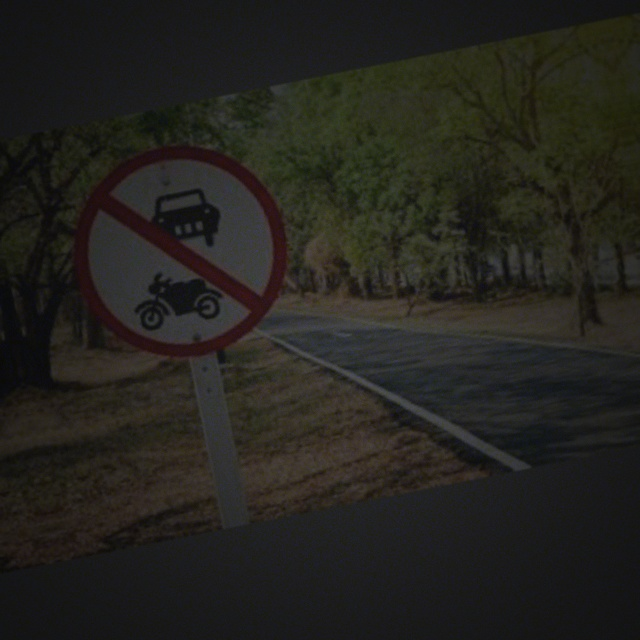All_Motor_Vehicles_Prohibited: (61, 129, 300, 368)
